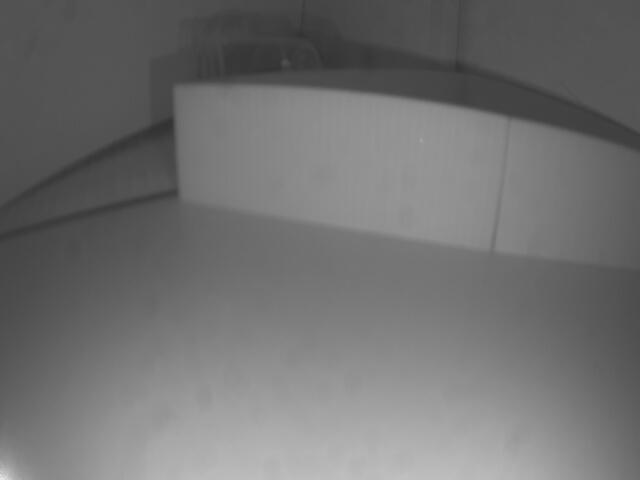Red: (167, 86, 639, 269)
